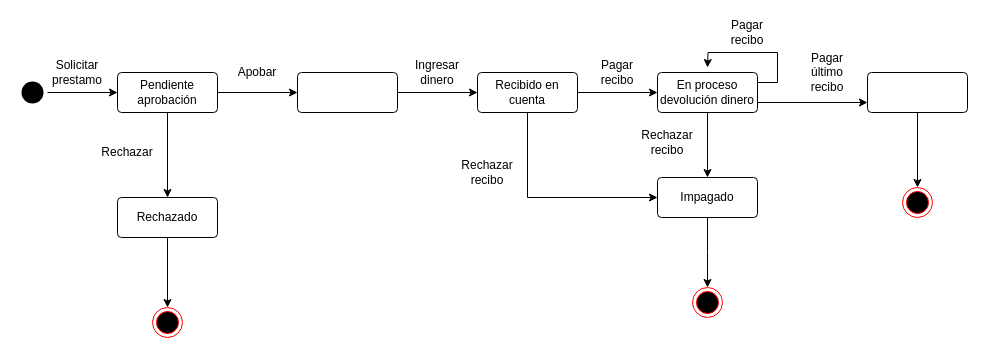
Image size: 985x355. Some labels were removed from this diagram. Each missing label, with the box of its shape:
Aprobado: (296, 72, 398, 112)
Préstamo saldado: (866, 72, 968, 112)
